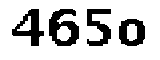4: (7, 5, 45, 49)
5: (84, 7, 114, 52)
6: (46, 8, 82, 48)
o: (115, 19, 149, 51)
